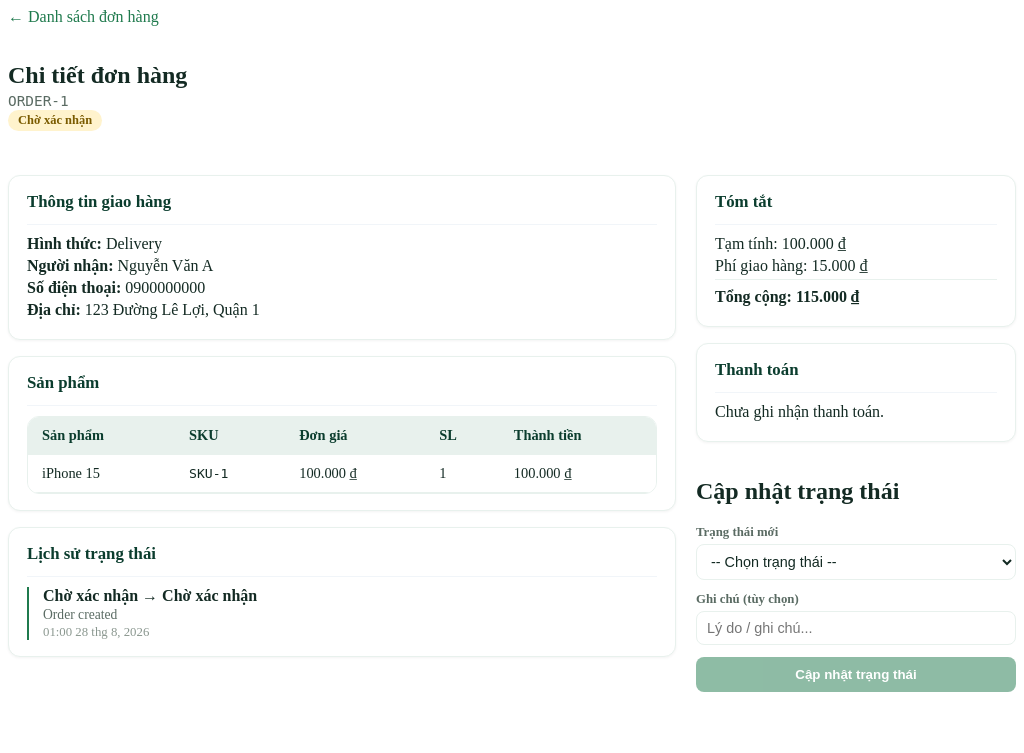
Test: AdminOrderDetailPage › shows the backend message when a transition is rejected
Select "Đã xác nhận" in the dropdown labelled "Trạng thái mới". click: (856, 562)
box: [696,544,1016,580]
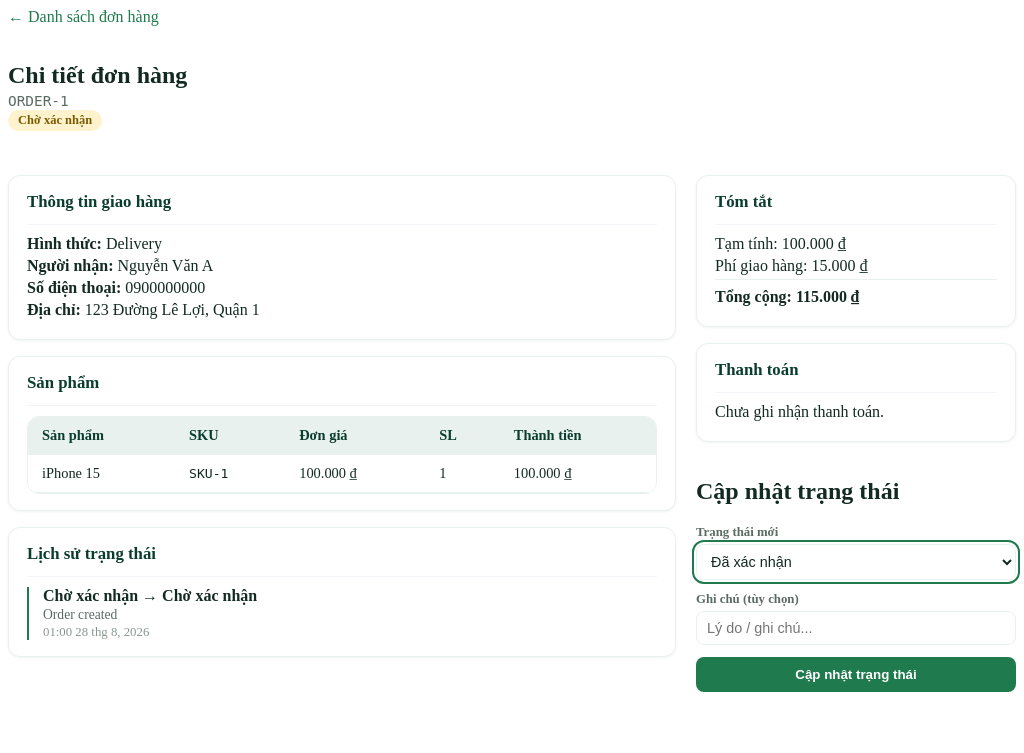
Click the button "Cập nhật trạng thái". click: (856, 674)
box: [696,657,1016,692]
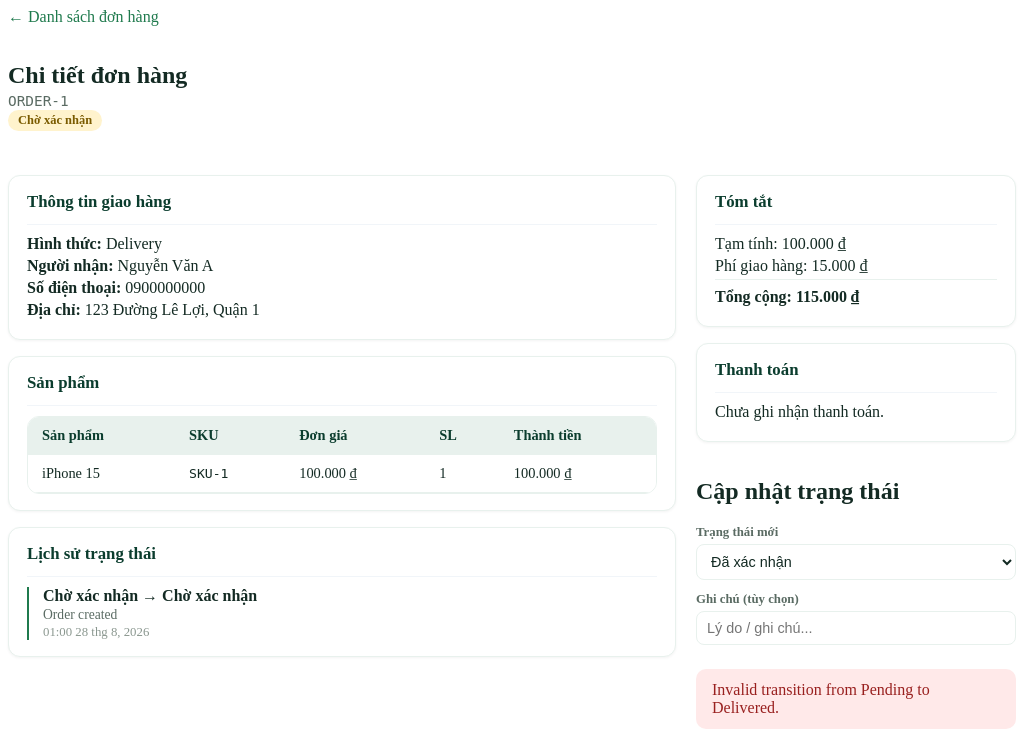
Check: the text "Invalid transition from Pending to Delivered." is shown, box [696,669,1016,729]
